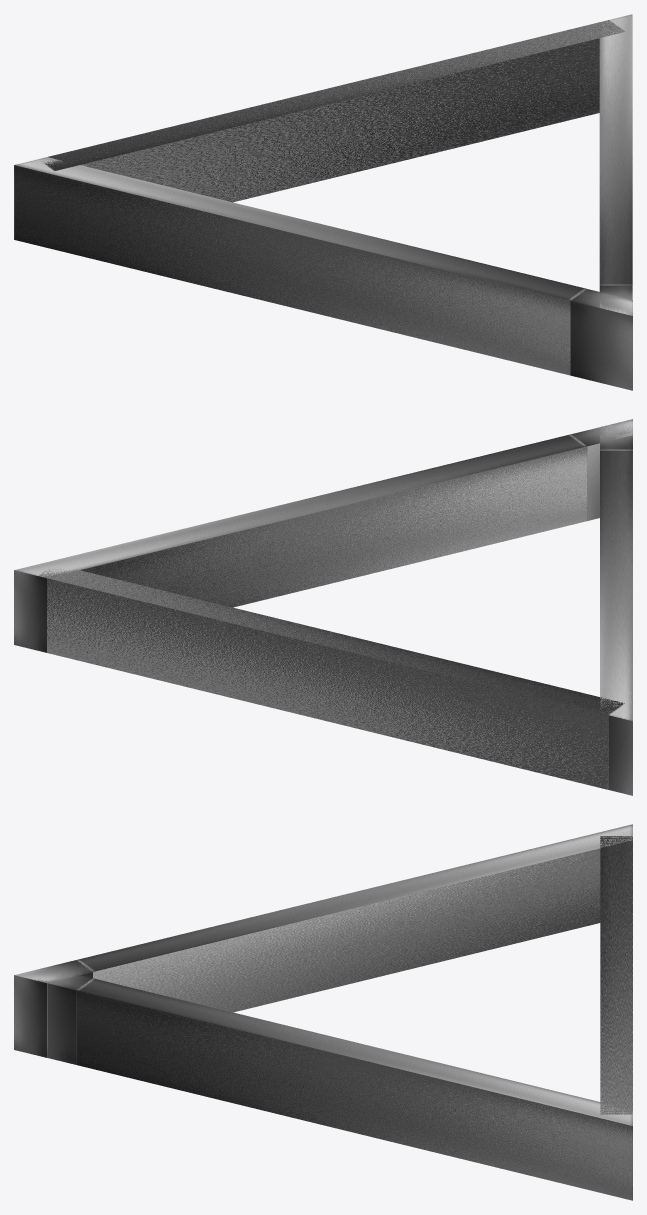
The model's file is PoolTri.obj.
The picture shows the model from 3 angles, top to bottom: view 1: azimuth 30°, elevation 25°; view 2: azimuth 150°, elevation 25°; view 3: azimuth 270°, elevation 25°; orthographic projection.
Parts seen in each view (by area): view 1: Cube.002_Cube.004; view 2: Cube.002_Cube.004; view 3: Cube.002_Cube.004.
Part boxes in pixels (bbox=[...]): Cube.002_Cube.004: bbox=[14, 14, 632, 390]; Cube.002_Cube.004: bbox=[14, 419, 632, 795]; Cube.002_Cube.004: bbox=[14, 824, 632, 1200].
Size of the model in its own units: 4.33 by 0.5 by 3.75.
Materials: 1 (1 with a texture image).
